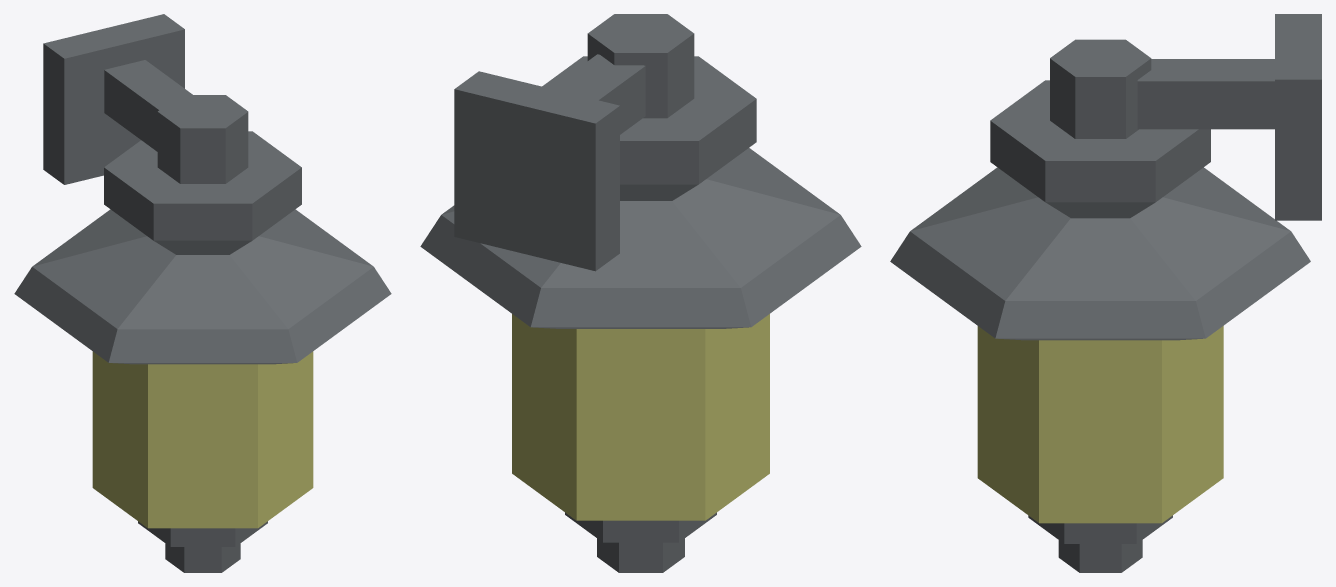
The model's file is LightGreyMetalDecorationSmallWallLight1.fbx.
3 views of the same model, side by side, from view 1: azimuth 30°, elevation 25°; view 2: azimuth 150°, elevation 25°; view 3: azimuth 270°, elevation 25° (orthographic). The views are drawn at different scales.
Visible parts, largest first — view 1: LightGreyMetalDecorationSmallWallLight1; view 2: LightGreyMetalDecorationSmallWallLight1; view 3: LightGreyMetalDecorationSmallWallLight1.
Boxes of the visible parts, x1=… form: LightGreyMetalDecorationSmallWallLight1: x1=14, y1=14, x2=391, y2=572; LightGreyMetalDecorationSmallWallLight1: x1=420, y1=14, x2=861, y2=572; LightGreyMetalDecorationSmallWallLight1: x1=890, y1=14, x2=1321, y2=572.
Size of the model in its own units: 84.21 by 130 by 99.72.
